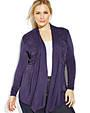C_cardigan sweater: (9, 25, 74, 113)
